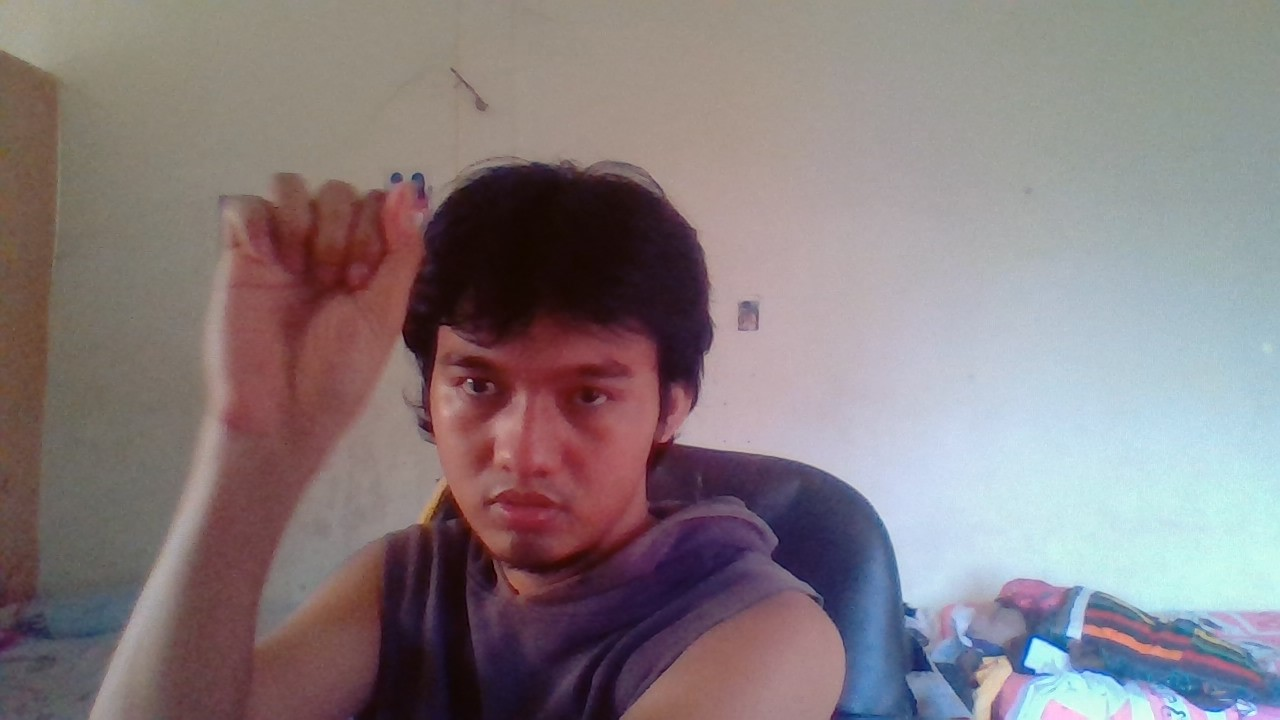A: (164, 157, 457, 453)
